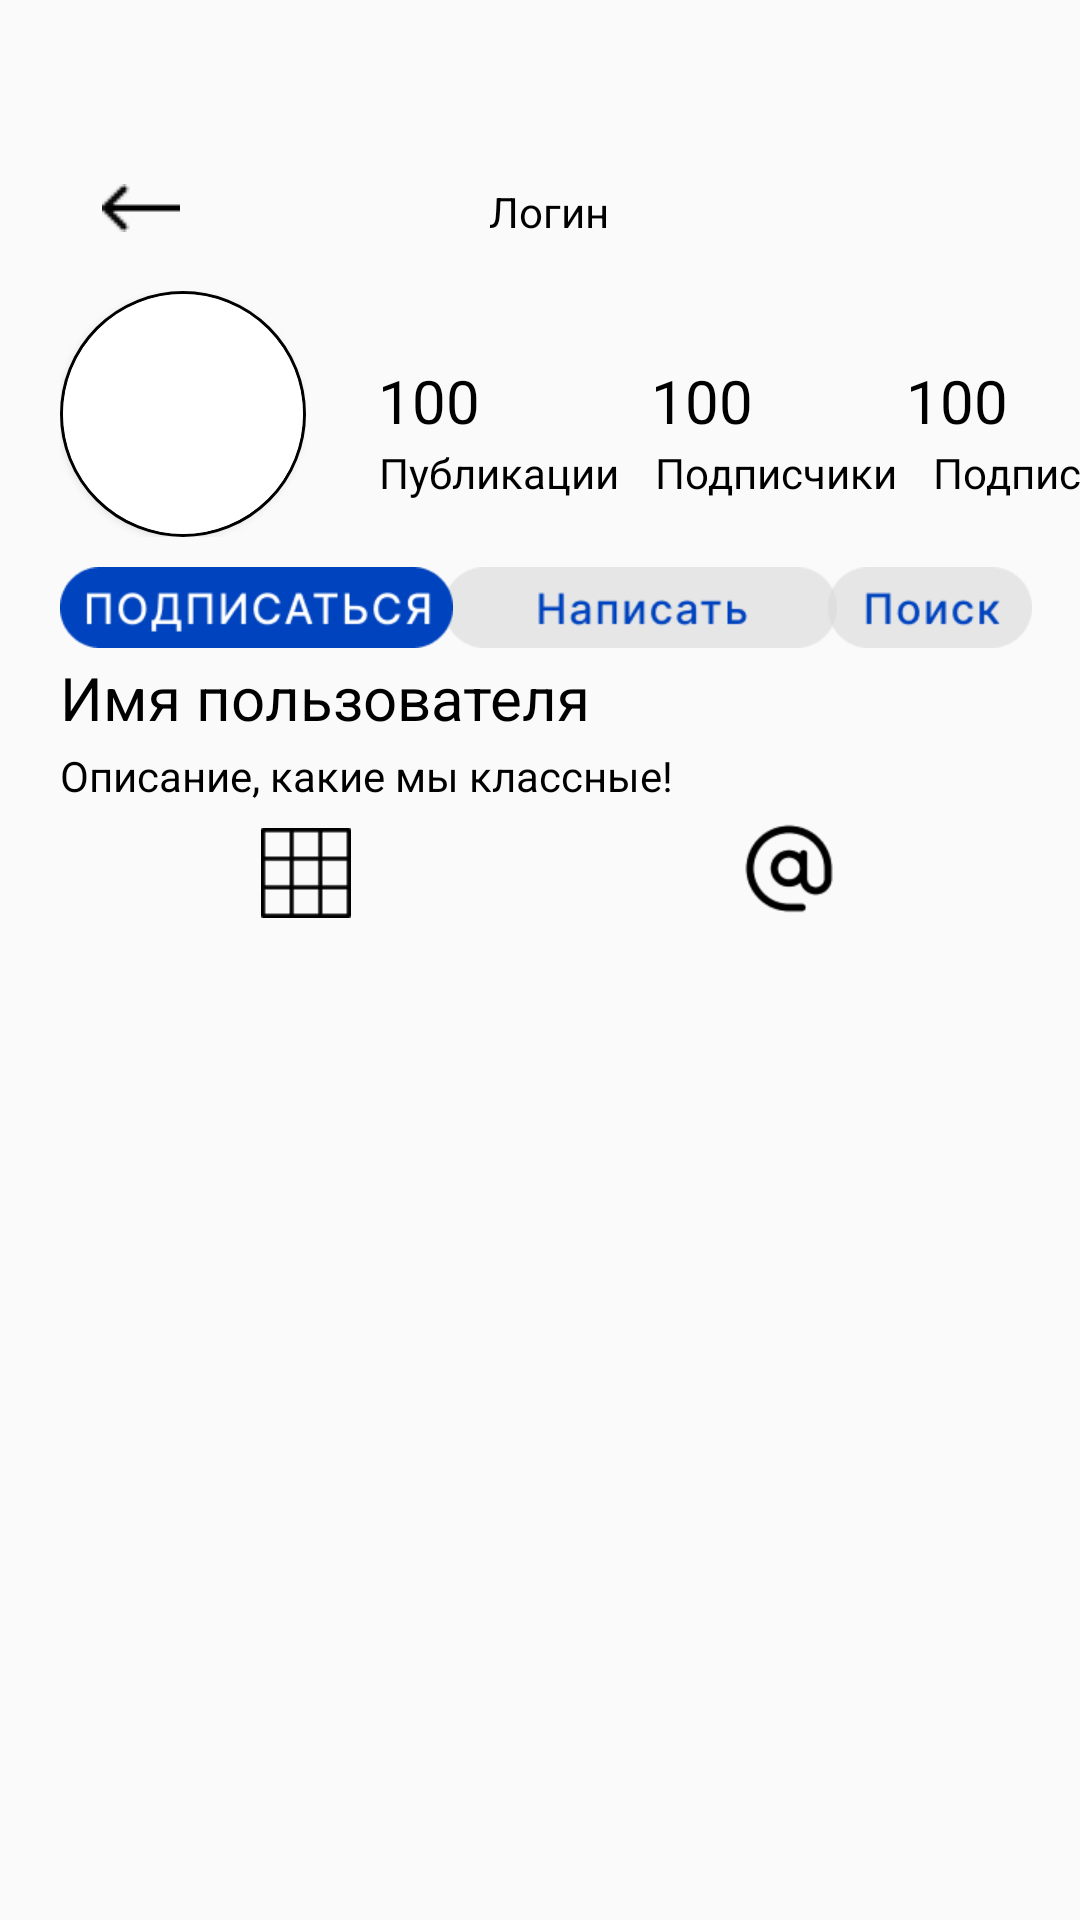

Locate icon controls on the screen. Image size 1080px×1920px, boxes as (x1, y1, x2, y2).
arrow left: (102, 184, 180, 232)
grid: (261, 828, 351, 918)
mail: (745, 825, 833, 912)
